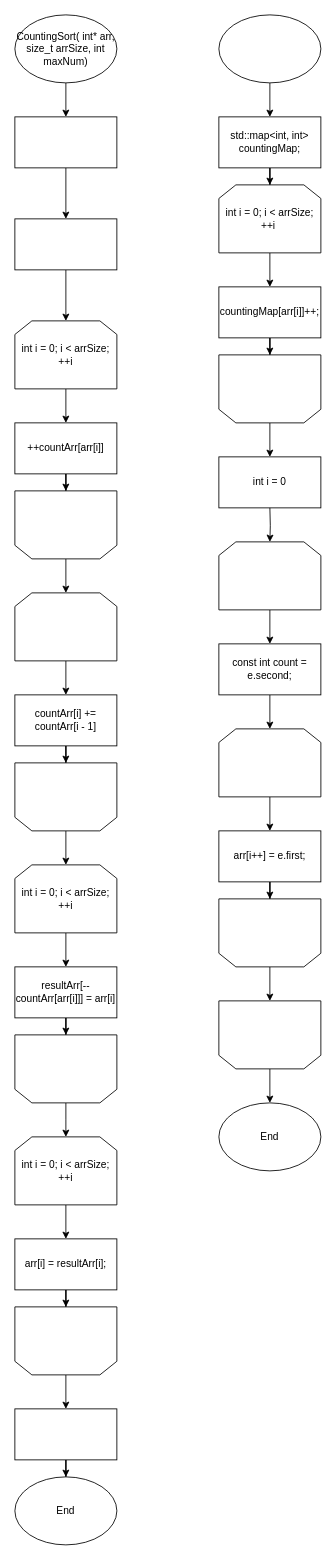
Image size: 336x1560. Some labels were removed from this diagram. The shapes that lost their labels are listed below. From the top down, each one's centre as x and y in pixels, then its label:
At (269,48): "CountingSortMap( int* arr, size_t arrSize )".
At (65,142): "int* countArr = new int[maxNum + 1]()".
At (65,244): "int* resultArr = new int[maxNum]()".
At (269,575): "for ( auto e : countingMap )".
At (65,626): "int i = 0; i < maxNum; ++i".
At (269,762): "int j = 0; j < e.second; ++j".
At (65,1434): "delete[] countArr; delete[] resultArr;".
